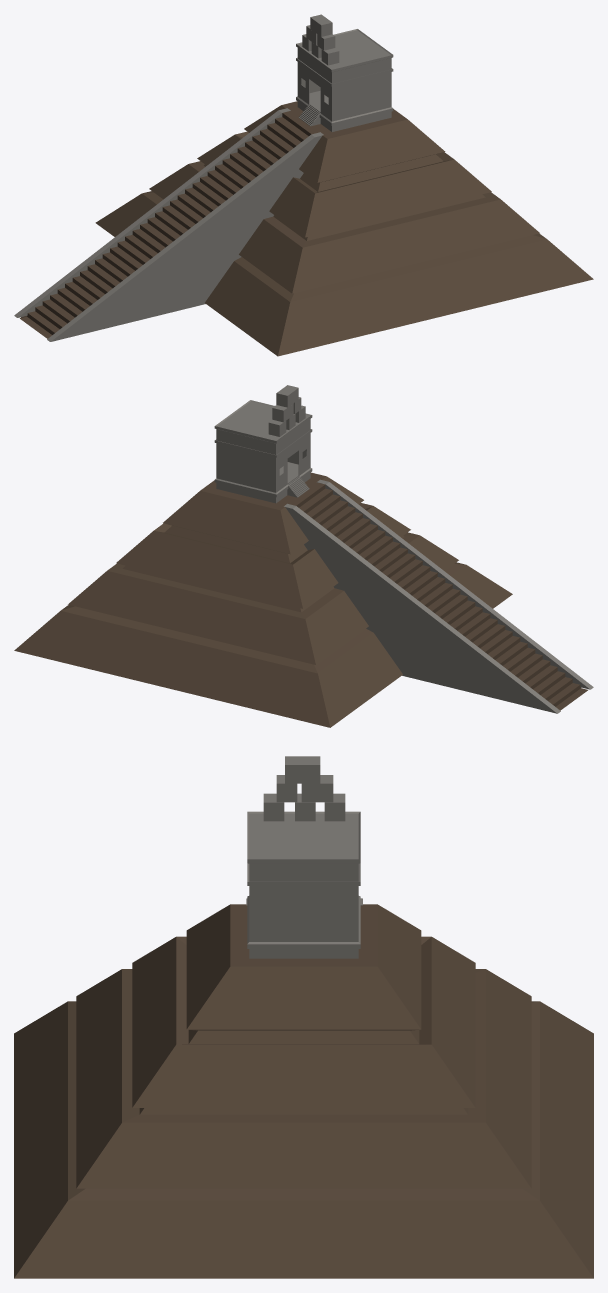
File: Temple_newstairs.fbx
The picture shows the model from 3 angles, top to bottom: view 1: azimuth 30°, elevation 25°; view 2: azimuth 150°, elevation 25°; view 3: azimuth 270°, elevation 25°; orthographic projection. The views are drawn at different scales.
Parts seen in each view (by area): view 1: Cube.001, Cube.004, Cube.003, Cube.005; view 2: Cube.001, Cube.004, Cube.003, Cube.005; view 3: Cube.001, Cube.005, Cube.011, Cube.009.
Part boxes in pixels (x1,y1,x2,y2): Cube.001: (95,101,593,356); Cube.004: (14,108,323,341); Cube.003: (20,111,318,338); Cube.005: (296,29,393,131); Cube.001: (14,472,512,727); Cube.004: (284,479,593,713); Cube.003: (289,482,587,710); Cube.005: (214,400,312,503); Cube.001: (14,904,593,1278); Cube.005: (247,811,360,958); Cube.011: (285,756,320,783); Cube.009: (301,775,333,802).
Size of the model in its own units: 626 by 306 by 421.
